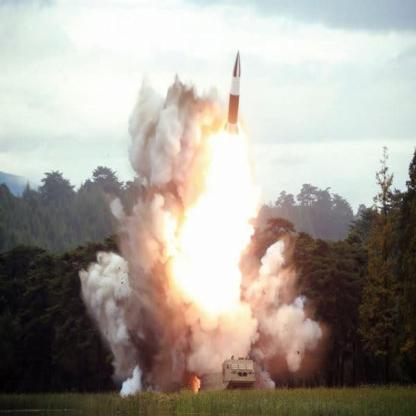MIL_TBM: (225, 43, 244, 139)
